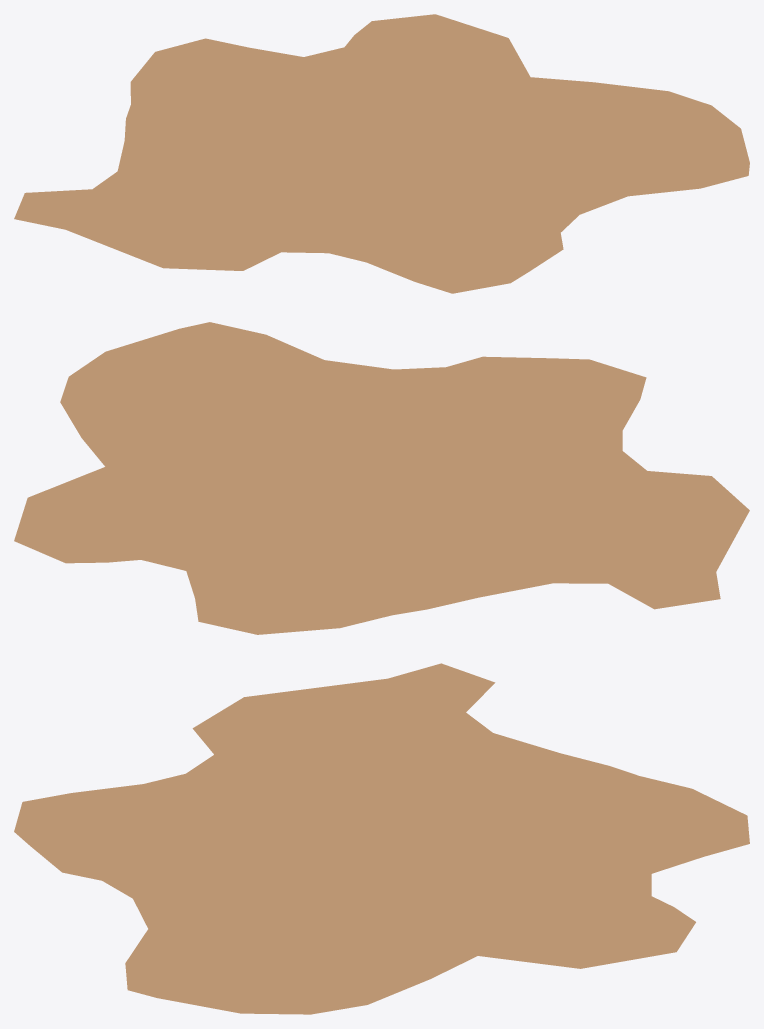
File: Stains.4.fbx
3 views of the same model, one above another, from view 1: azimuth 30°, elevation 25°; view 2: azimuth 150°, elevation 25°; view 3: azimuth 270°, elevation 25° (orthographic). The views are drawn at different scales.
Visible parts, largest first — view 1: Plane; view 2: Plane; view 3: Plane.
Part boxes in pixels (bbox=[...]): Plane: bbox=[14, 14, 749, 293]; Plane: bbox=[14, 322, 749, 634]; Plane: bbox=[14, 663, 749, 1014].
Size of the model in its own units: 156 by 0.000114 by 139.
